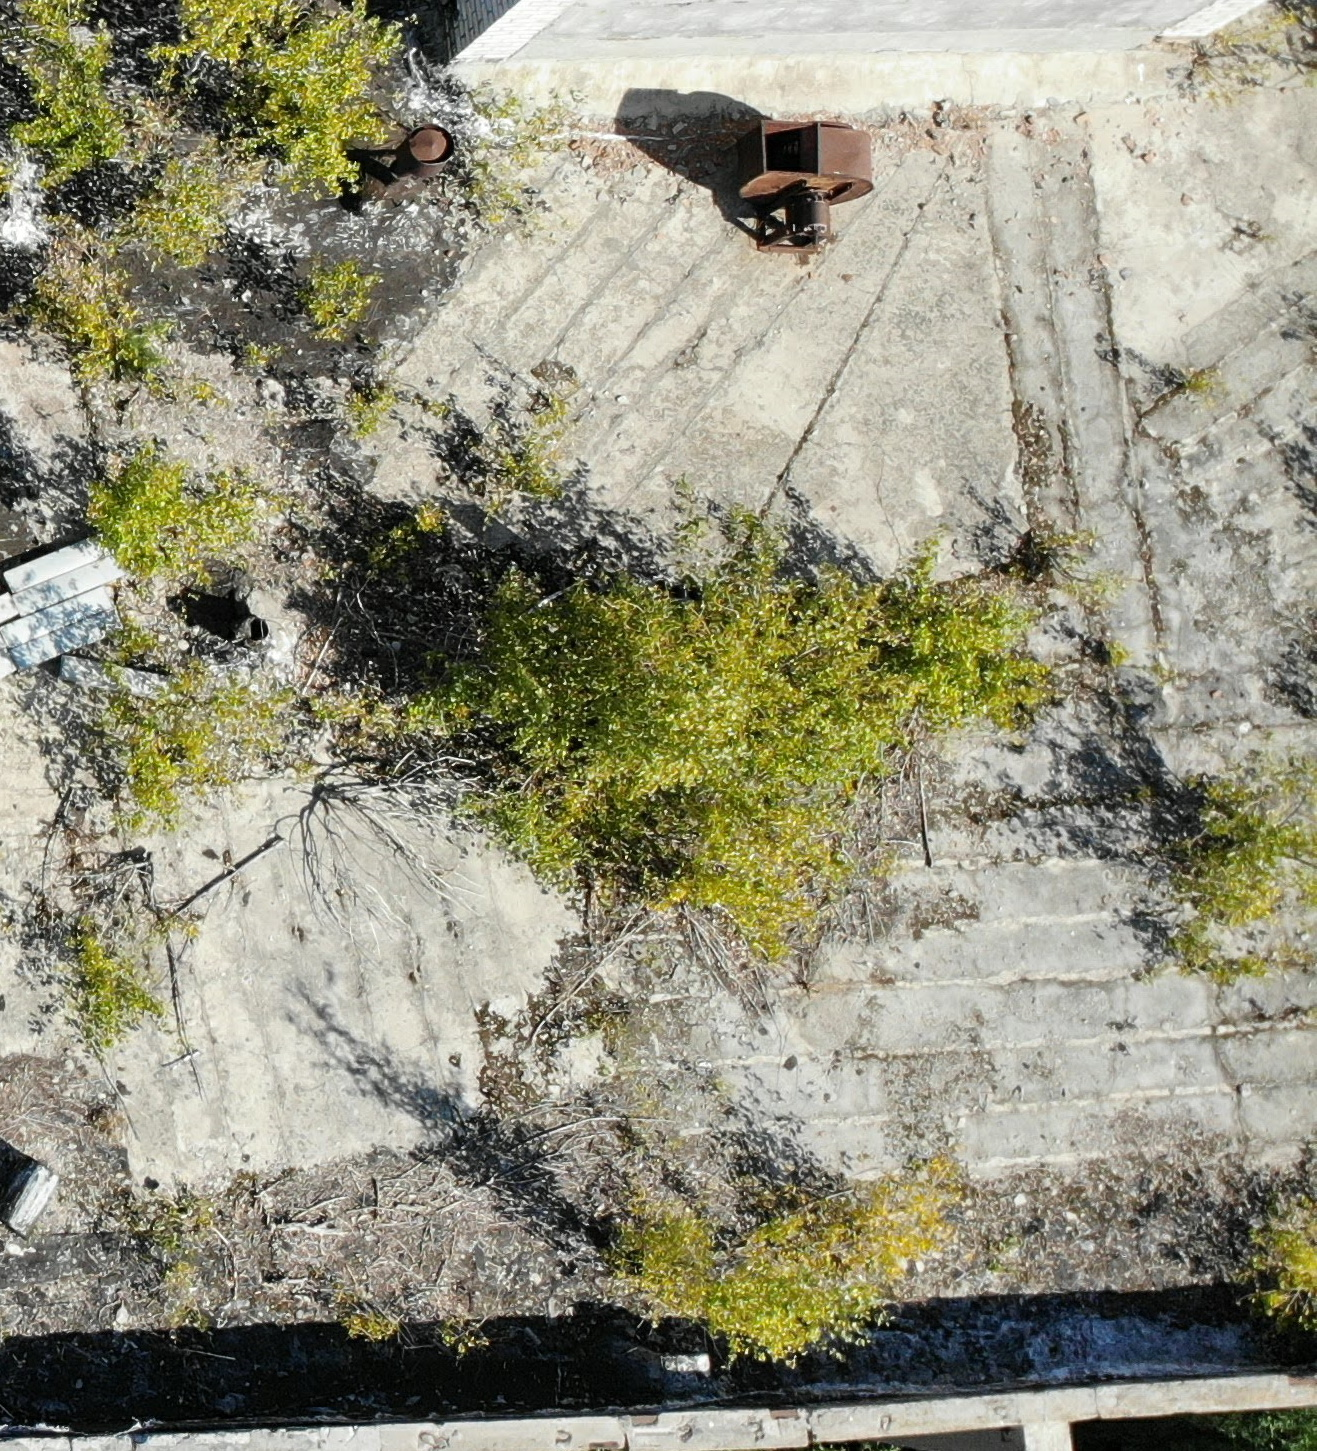tree: (422, 465, 1005, 980), (599, 1103, 969, 1376), (94, 618, 330, 859), (1143, 679, 1299, 993), (80, 428, 298, 638), (164, 10, 398, 198), (423, 46, 602, 239), (10, 13, 158, 188), (61, 248, 195, 425), (40, 867, 166, 1054), (128, 133, 244, 294), (135, 1167, 230, 1344), (289, 258, 388, 361), (339, 1287, 396, 1357)
